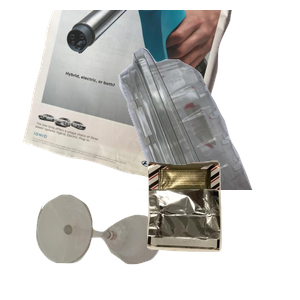glass: (34, 192, 187, 300)
paper: (20, 10, 244, 190)
plastic: (71, 45, 300, 225)
trash: (144, 158, 300, 300)
